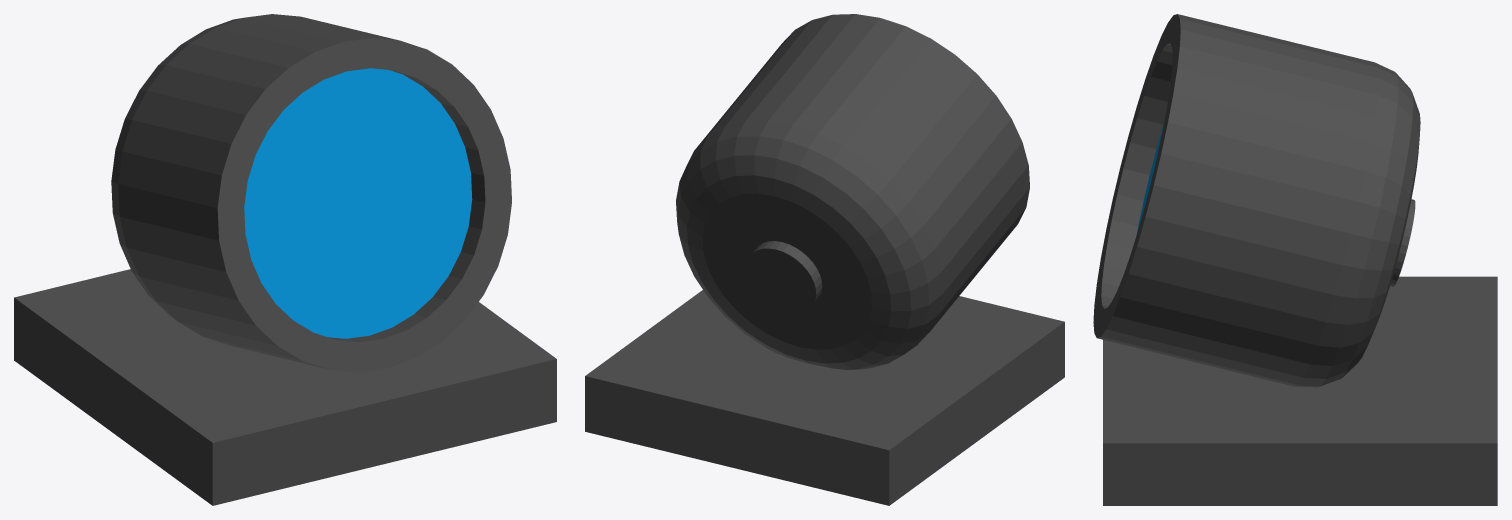
File: Spotlight.fbx
3 renders of one model, left to right at view 1: azimuth 30°, elevation 25°; view 2: azimuth 150°, elevation 25°; view 3: azimuth 270°, elevation 25°, orthographic. The views are drawn at different scales.
Visible parts, largest first — view 1: Plane.007; view 2: Plane.007; view 3: Plane.007.
Boxes of the visible parts, x1=… form: Plane.007: x1=14, y1=14, x2=556, y2=505; Plane.007: x1=585, y1=14, x2=1064, y2=505; Plane.007: x1=1093, y1=14, x2=1497, y2=505.
Bounding box in the file's own units: 594 × 650 × 608.
